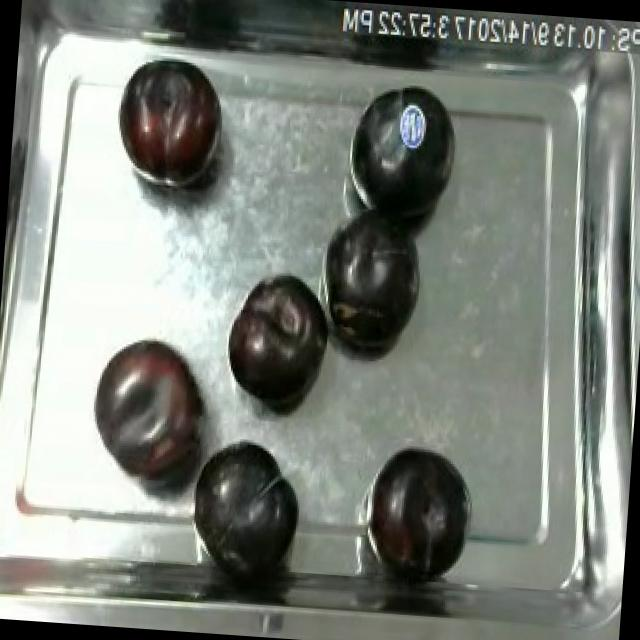Fruit: (84, 330, 218, 498), (341, 78, 465, 230), (184, 430, 308, 580), (318, 191, 429, 357), (222, 264, 338, 420), (111, 50, 232, 196), (357, 436, 478, 578)
